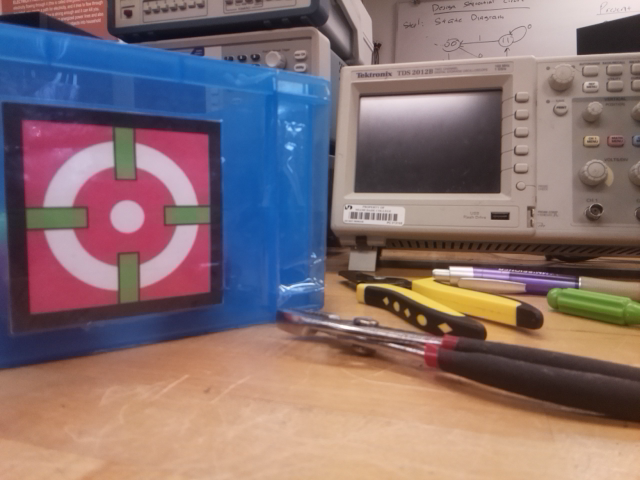drop-bin: (1, 101, 224, 334)
